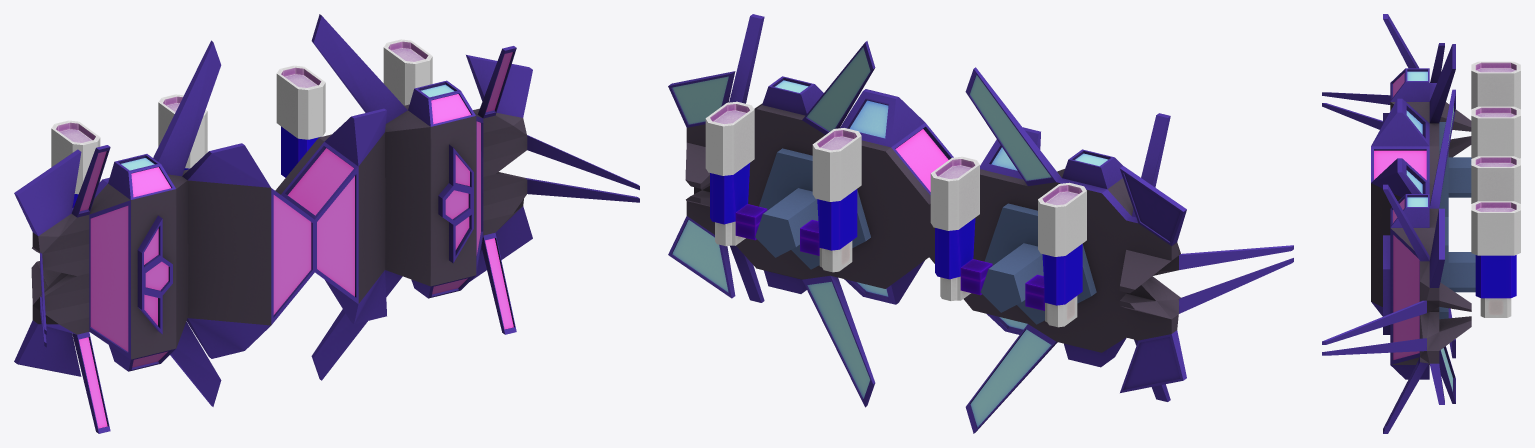
Rendered from GuardPlatform.fbx.
3 views of the same model, side by side, from view 1: azimuth 30°, elevation 25°; view 2: azimuth 150°, elevation 25°; view 3: azimuth 270°, elevation 25° (orthographic). The views are drawn at different scales.
Parts seen in each view (by area): view 1: Platform, Cannon_01, Cannon_02; view 2: Platform, Cannon_01, Cannon_02; view 3: Platform, Cannon_01, Cannon_02.
Boxes of the visible parts, x1,y1,x2,y2 form: Platform: (14,14,639,433); Cannon_01: (276,39,432,177); Cannon_02: (51,94,207,207); Platform: (668,14,1293,433); Cannon_01: (705,101,861,272); Cannon_02: (930,156,1086,327); Platform: (1322,14,1475,433); Cannon_01: (1471,156,1520,317); Cannon_02: (1471,61,1520,158).
Bounding box in the file's own units: 1361 × 801 × 459.
